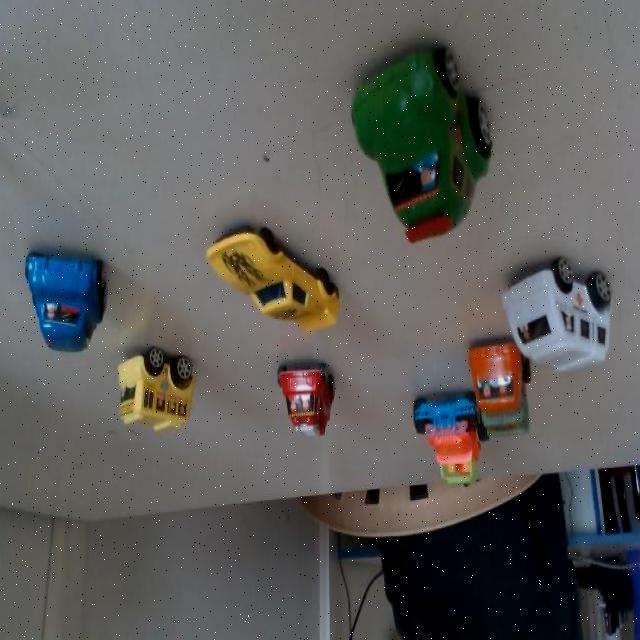car: (340, 44, 505, 243), (490, 237, 618, 394), (209, 218, 343, 340), (19, 241, 108, 357), (118, 336, 203, 435), (405, 394, 483, 494), (274, 342, 347, 448), (468, 338, 531, 448)
